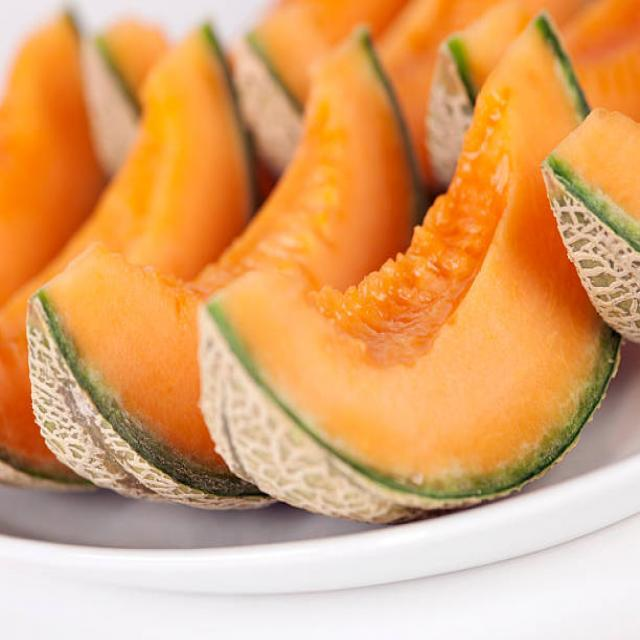Hami Melon: (0, 0, 640, 527)
